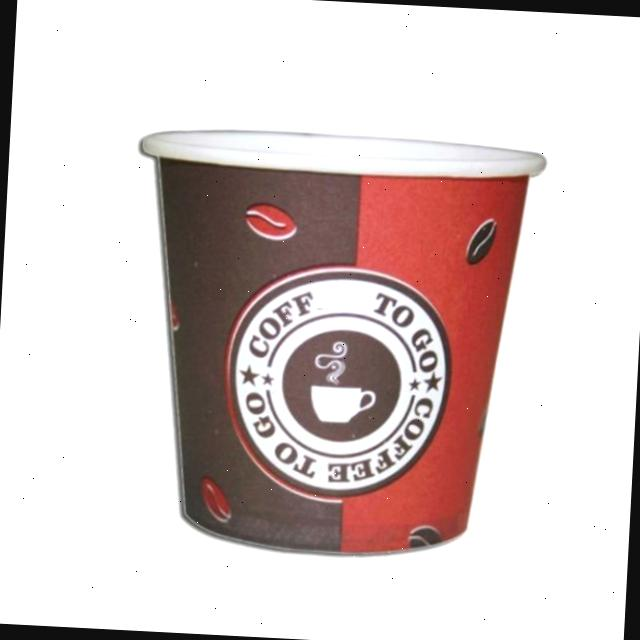trash: (114, 105, 570, 580)
